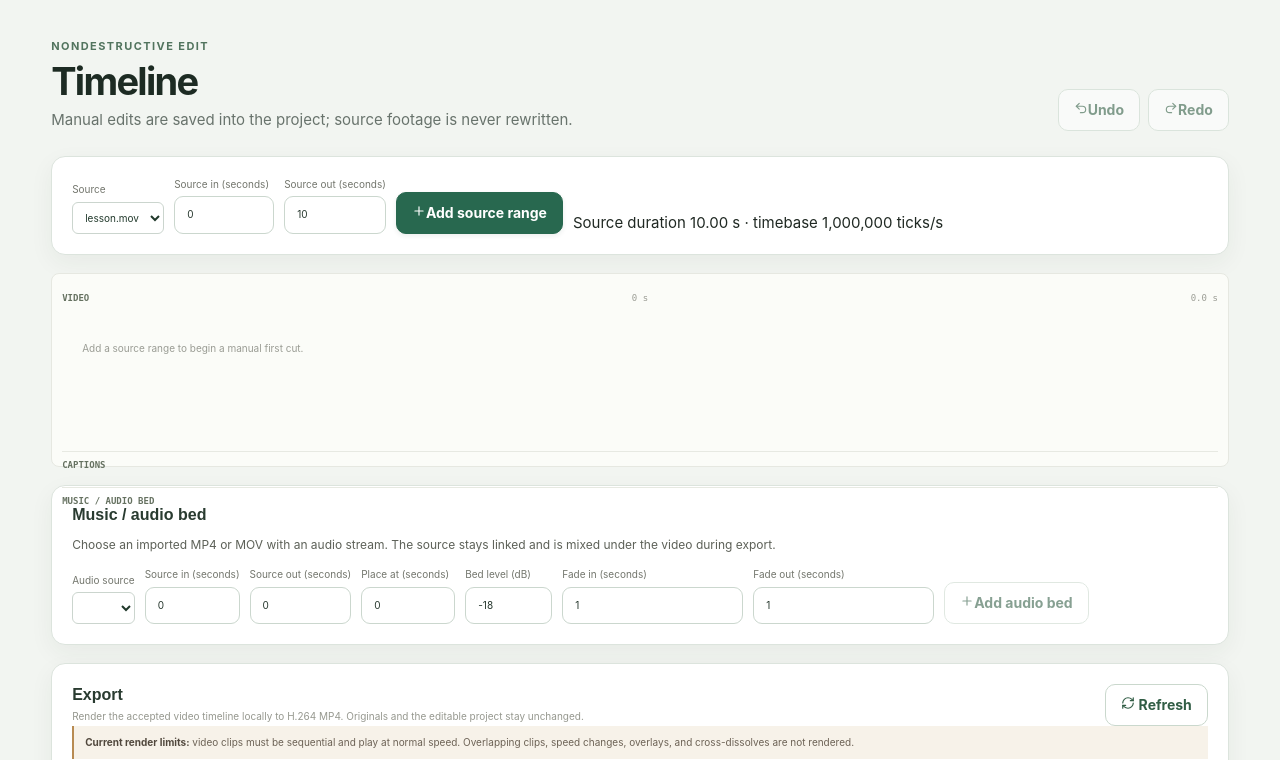
nondestructive timeline › keeps a failed local edit available and offers a save retry
What coordinates should you click on to do the following:
click the button "Add source range"
I would click on:
 (479, 213)
Its box is [396,192,563,234].
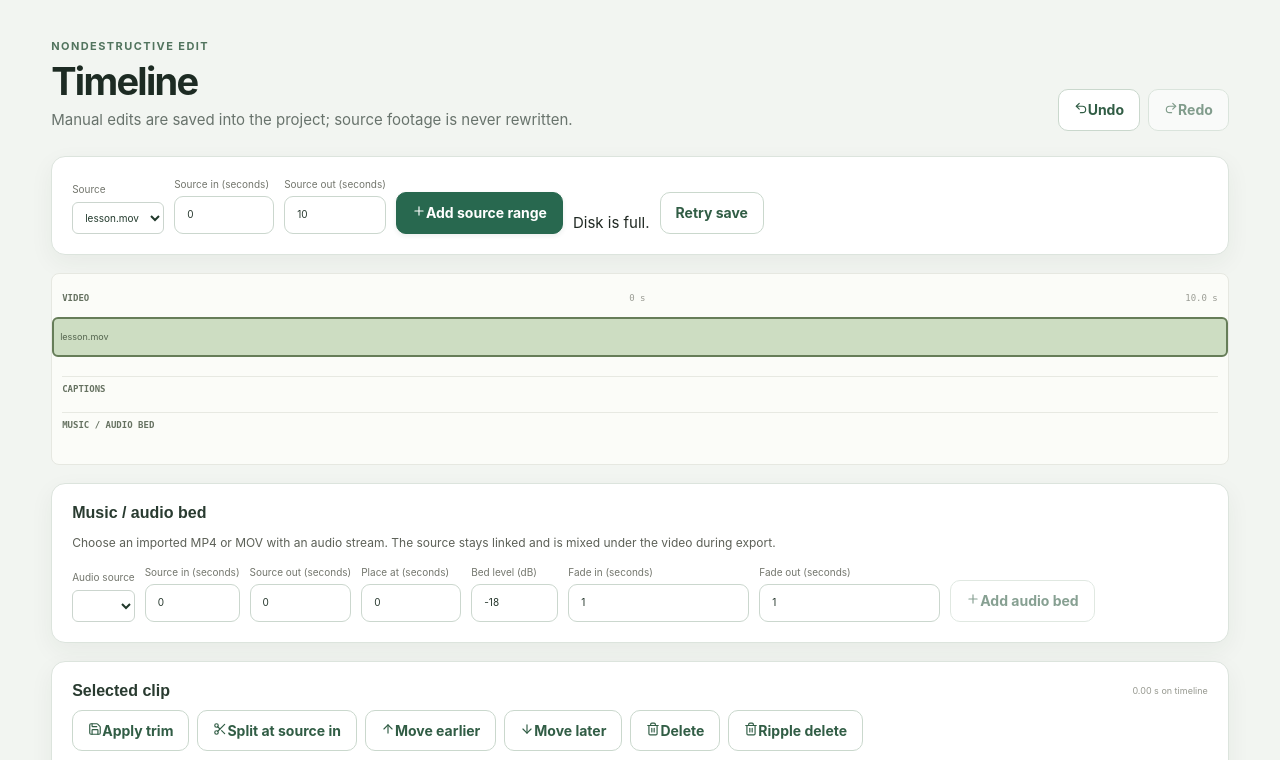
What coordinates should you click on to do the following:
click the button "Retry save"
I would click on:
 (712, 213)
Its box is [660,192,764,234].
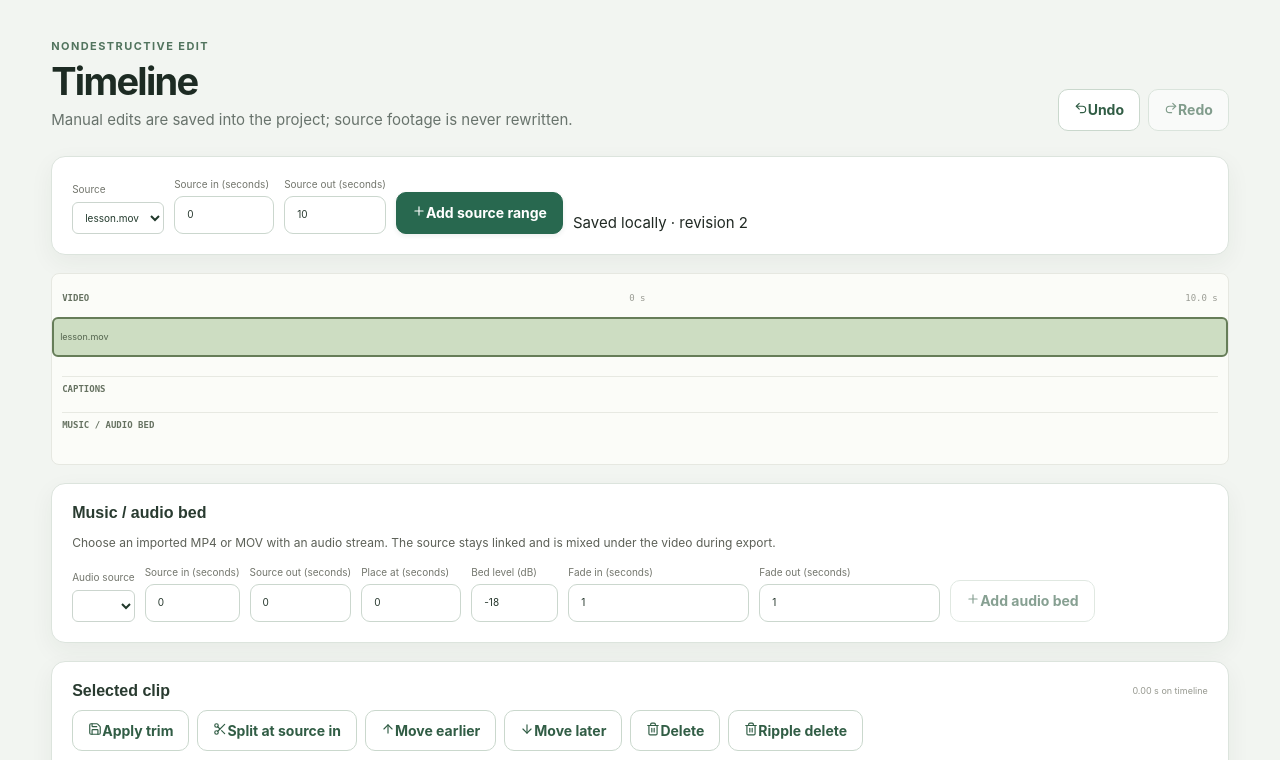
Check: the message reads "Saved locally · revision 2", box [573,213,748,232]
